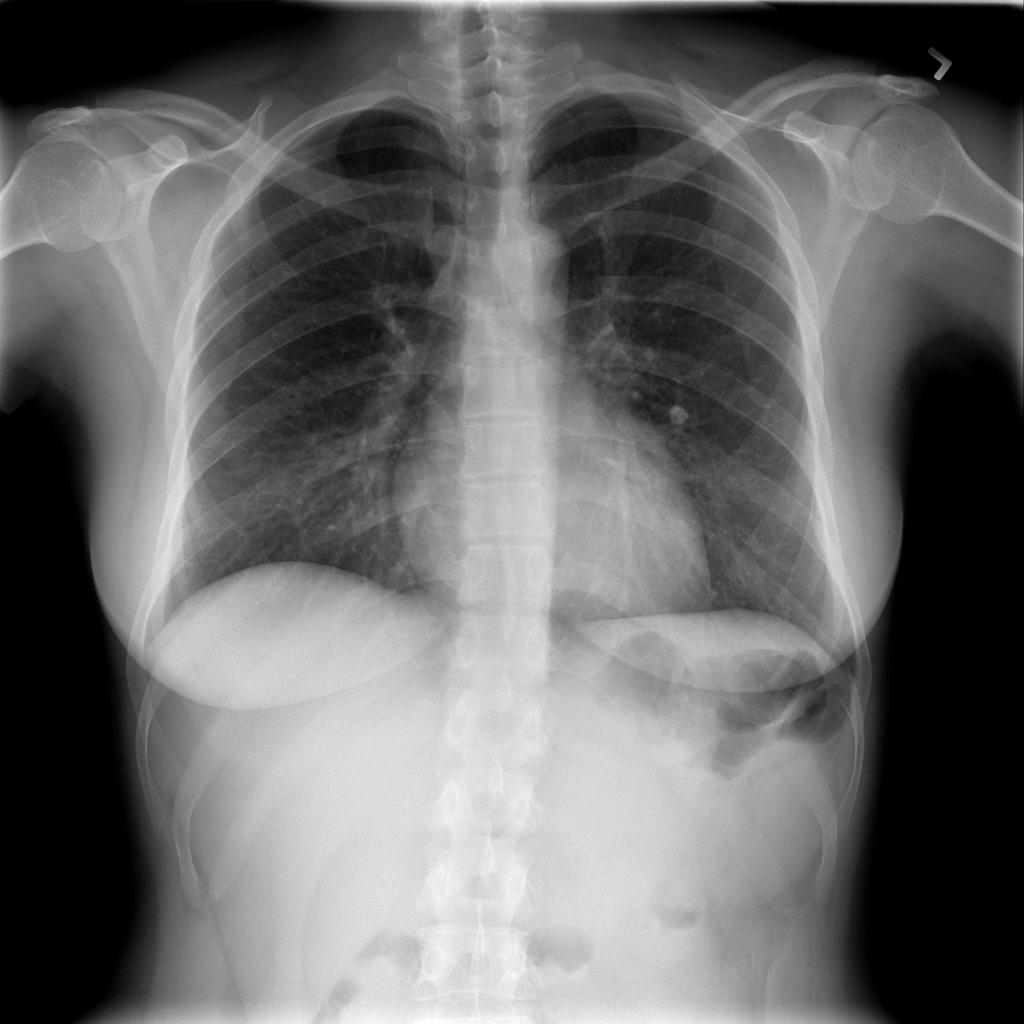nodule: (661, 395, 698, 432)
